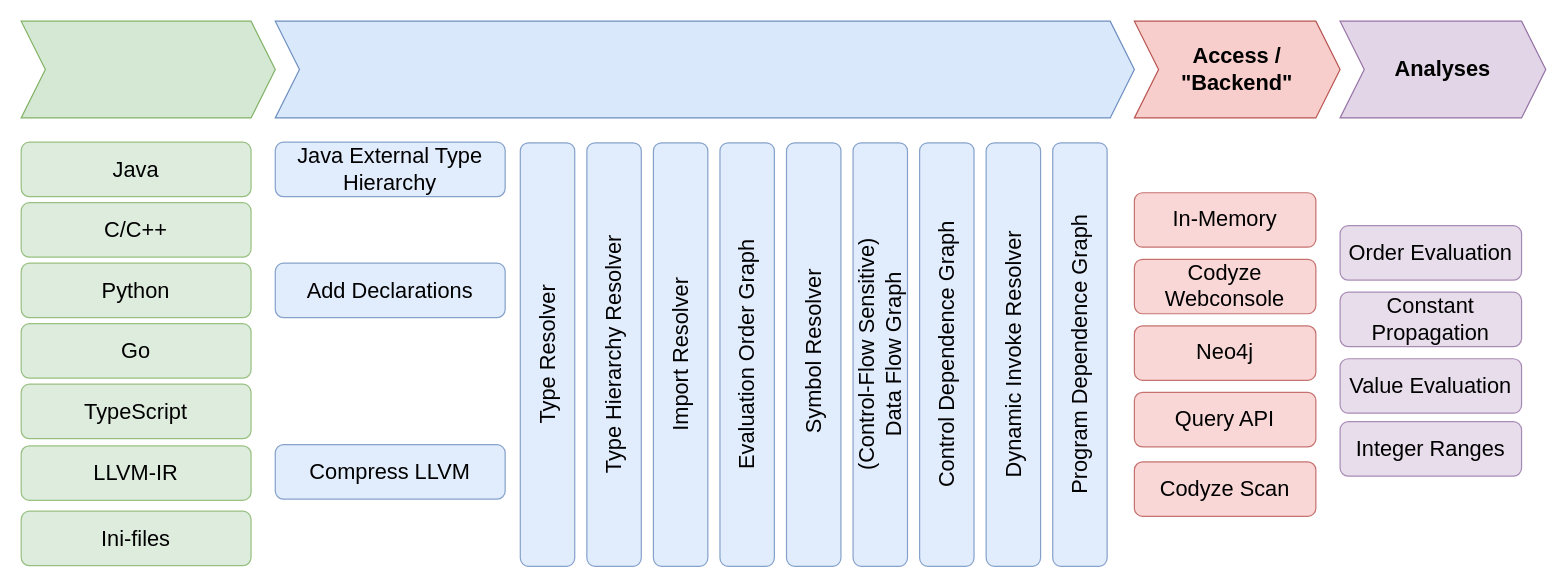
The diagram is 1567 pixels wide and 588 high, and some of its shapes have lost their labels. Here are the shapes that lost their labels. From the top down, the centre of each, then its label:
[147,69]: Language Frontend
[704,69]: Passes
